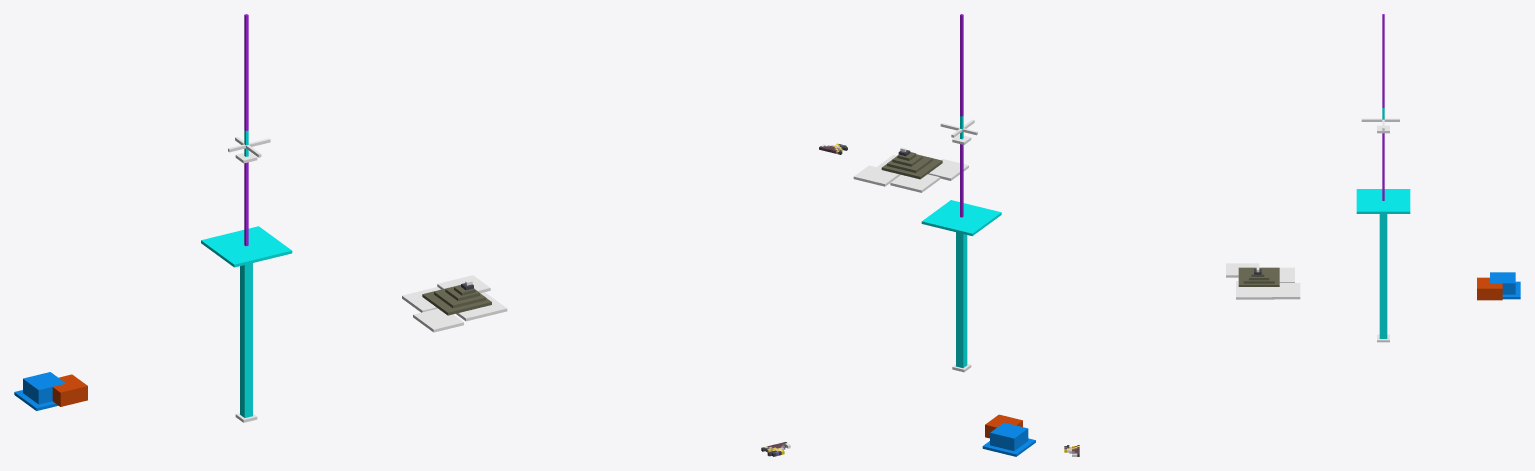
Rendered from sculpt_20260814T000054.obj.
3 views of the same model, side by side, from view 1: azimuth 30°, elevation 25°; view 2: azimuth 150°, elevation 25°; view 3: azimuth 270°, elevation 25° (orthographic). The views are drawn at different scales.
Size of the model in its own units: 181 by 141 by 178.
